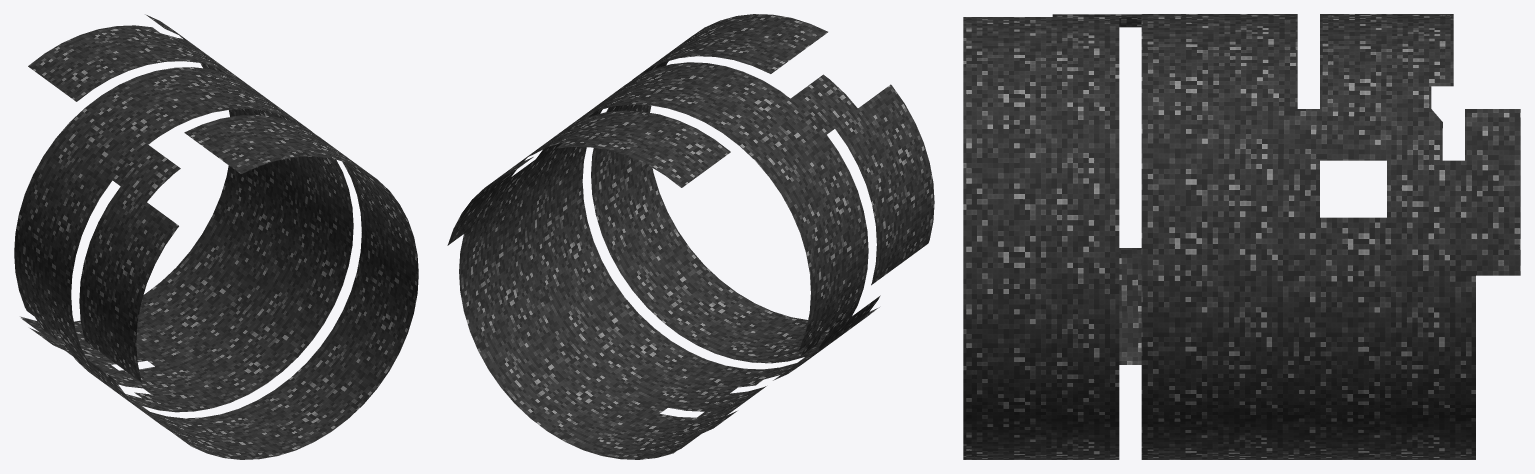
File: 2DCover001.obj
3 views of the same model, side by side, from view 1: azimuth 30°, elevation 25°; view 2: azimuth 150°, elevation 25°; view 3: azimuth 270°, elevation 25° (orthographic). The views are drawn at different scales.
Visible parts, largest first — view 1: shape0__Dot2D_rep; view 2: shape0__Dot2D_rep; view 3: shape0__Dot2D_rep.
Part boxes in pixels (left/top/right/bottom): shape0__Dot2D_rep: left=14, top=14, right=418, bottom=459; shape0__Dot2D_rep: left=447, top=14, right=934, bottom=459; shape0__Dot2D_rep: left=963, top=14, right=1520, bottom=459.
Size of the model in its own units: 2002 by 2003 by 2500.
Materials: 2 (1 with a texture image).
